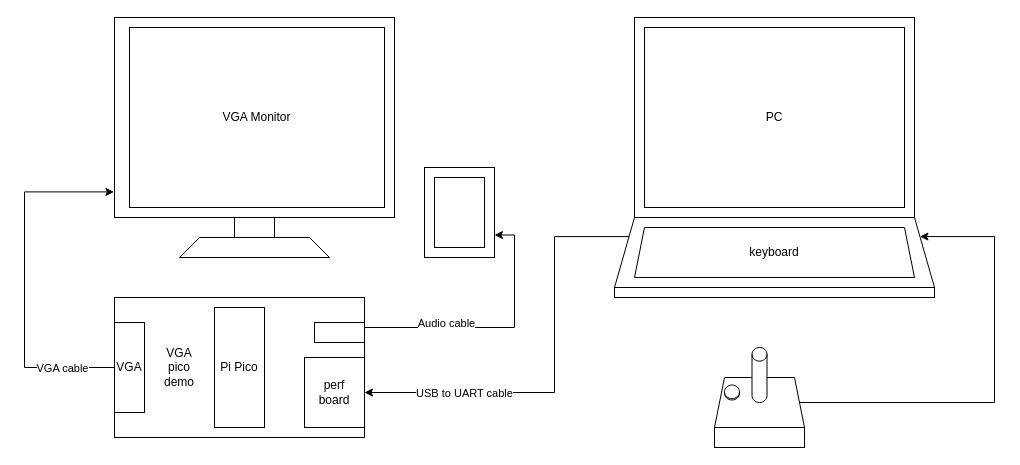
The diagram is 1020 pixels wide and 465 high, and some of its shapes have lost their labels. Here are the shapes that lost their labels. From the top down, the centre of each, then its label:
At pixel 459 212: "Speaker with amp".
At pixel 339 332: "audio".
At pixel 759 437: "game controller".
